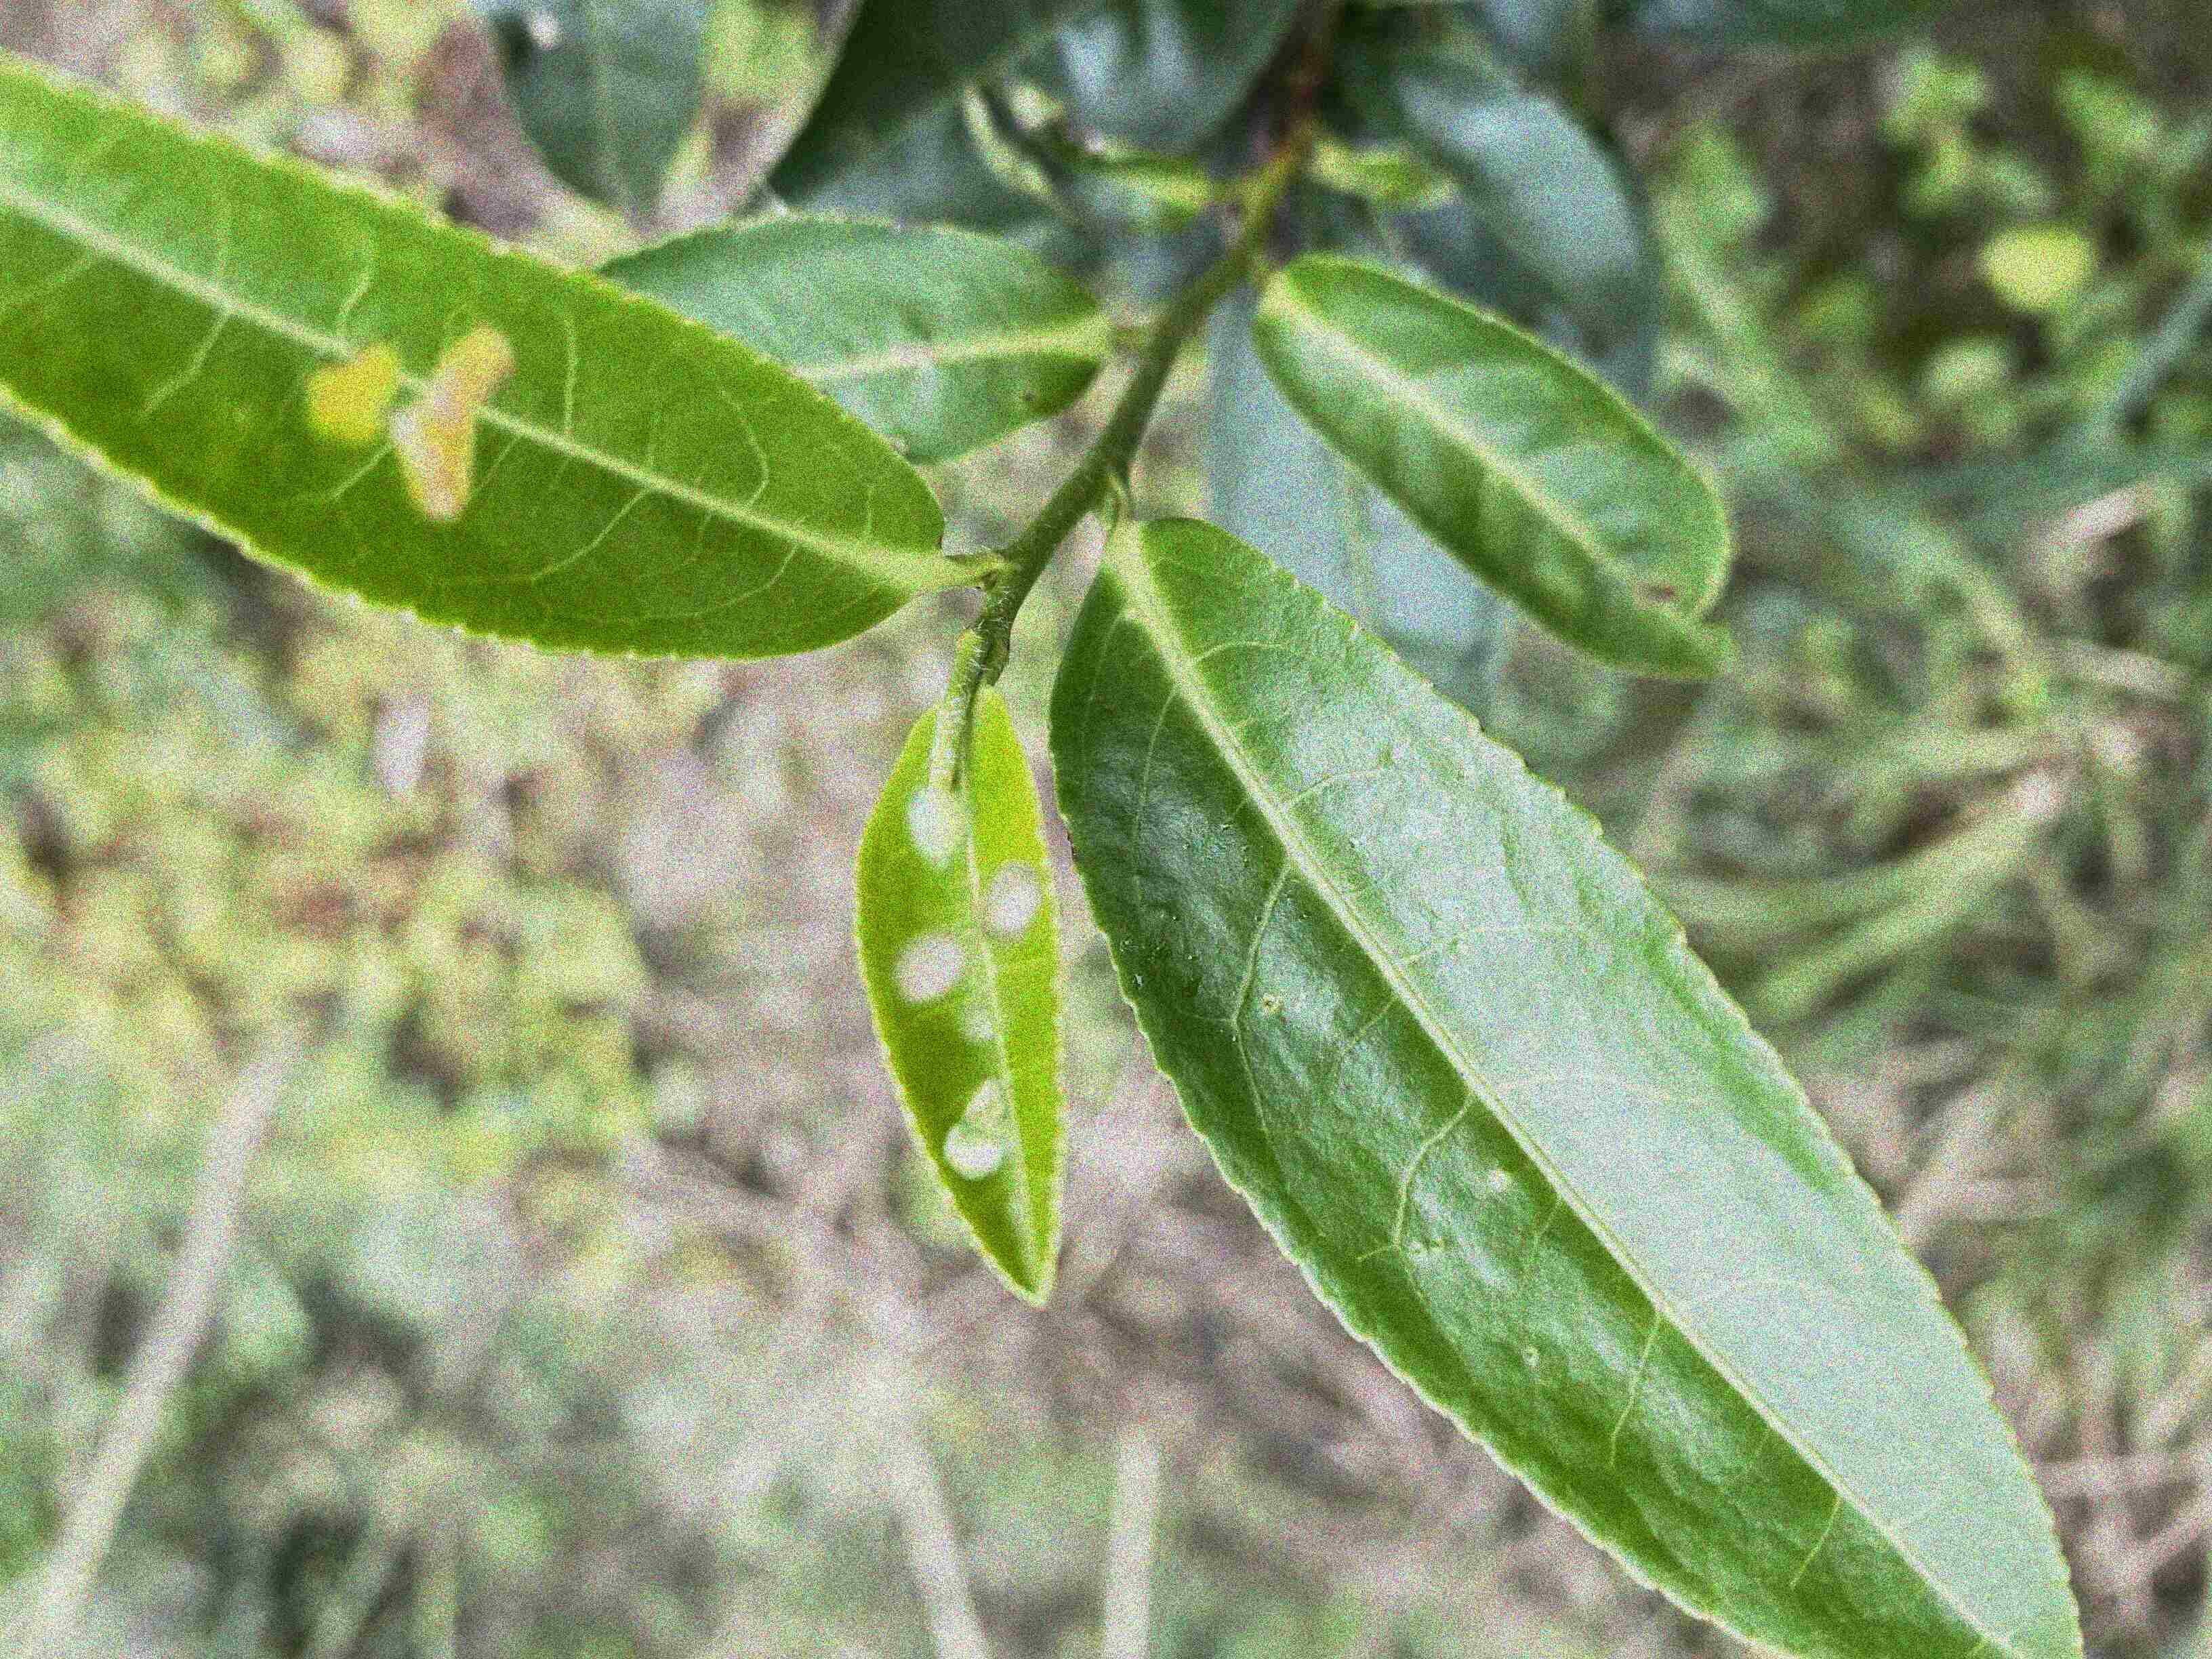chabing_high: (3, 58, 948, 662), (853, 687, 1066, 1309)
